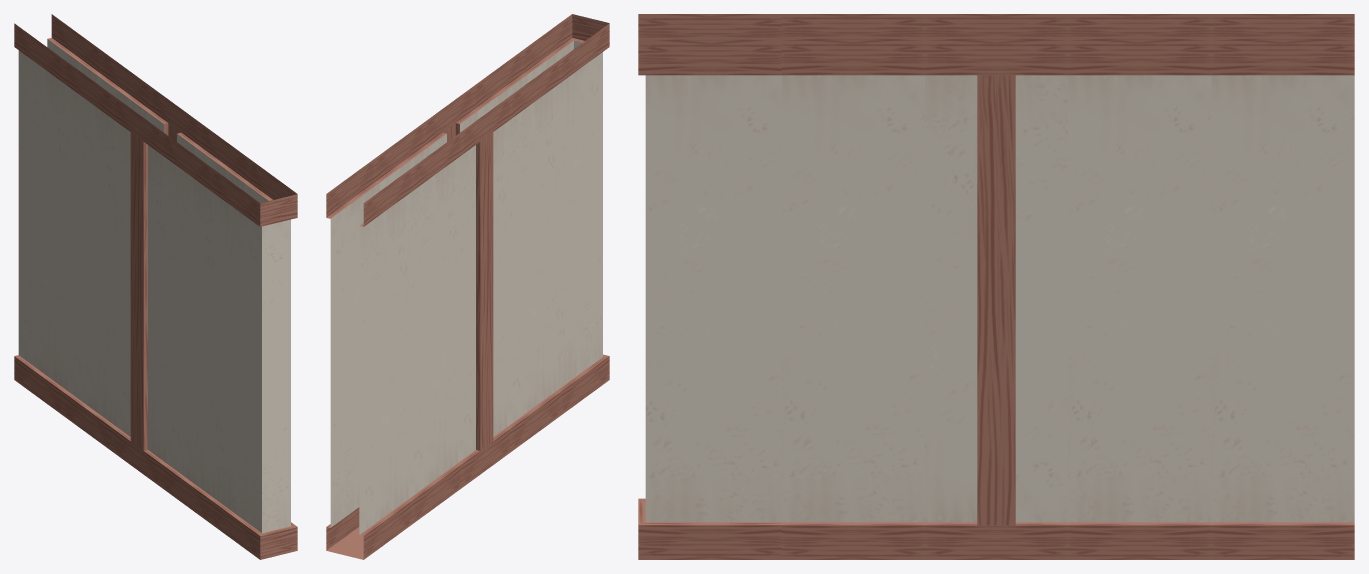
File: Pared Lateral mod.fbx
3 views of the same model, side by side, from view 1: azimuth 30°, elevation 25°; view 2: azimuth 150°, elevation 25°; view 3: azimuth 270°, elevation 25° (orthographic). The views are drawn at different scales.
Parts seen in each view (by area): view 1: x4_Lateral; view 2: x4_Lateral; view 3: x4_Lateral.
Part boxes in pixels (box(x1,y1,x2,y2)): x4_Lateral: box(14, 14, 297, 559); x4_Lateral: box(326, 14, 609, 559); x4_Lateral: box(638, 14, 1354, 559).
Bounding box in the file's own units: 44 × 400 × 500.
1 material, 1 textured.
